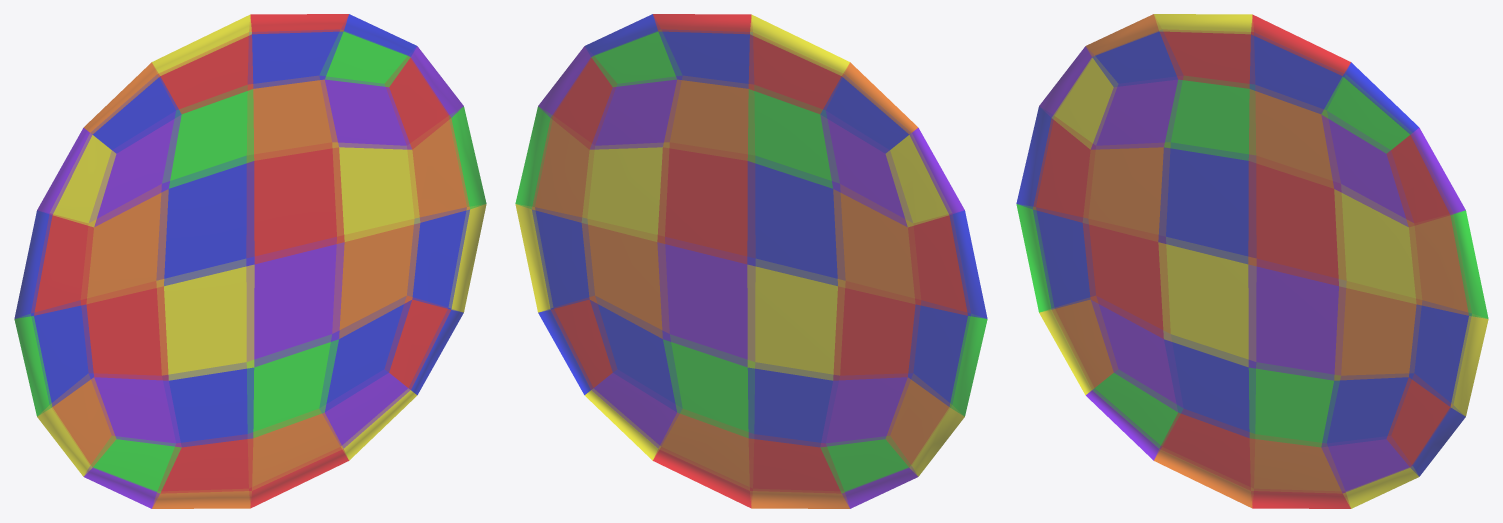
File: StainedGlassWindowRound.fbx
The picture shows the model from 3 angles, left to right: view 1: azimuth 30°, elevation 25°; view 2: azimuth 150°, elevation 25°; view 3: azimuth 330°, elevation 25°; orthographic projection.
Visible parts, largest first — view 1: Cube; view 2: Cube; view 3: Cube.
Part boxes in pixels (box(x1,y1,x2,y2)): Cube: box(14, 14, 486, 508); Cube: box(515, 14, 987, 508); Cube: box(1016, 14, 1488, 508).
Bounding box in the file's own units: 346 × 346 × 10.39.
